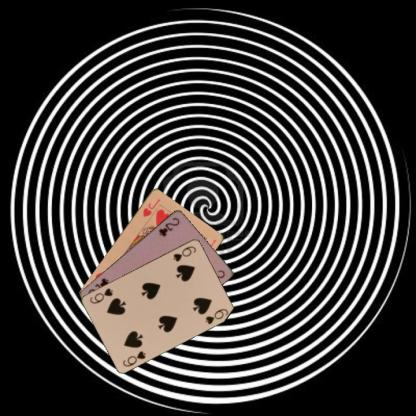2c: (156, 215, 181, 237)
6s: (170, 243, 198, 263), (121, 348, 148, 367)
Jh: (140, 196, 162, 218)
